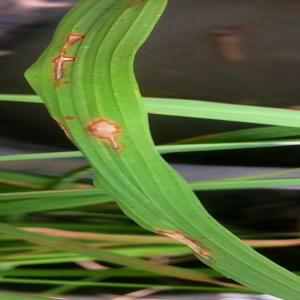1 RiceBlast: (143, 223, 217, 273), (77, 112, 138, 160), (42, 41, 77, 83), (45, 110, 81, 150), (43, 25, 86, 49)
